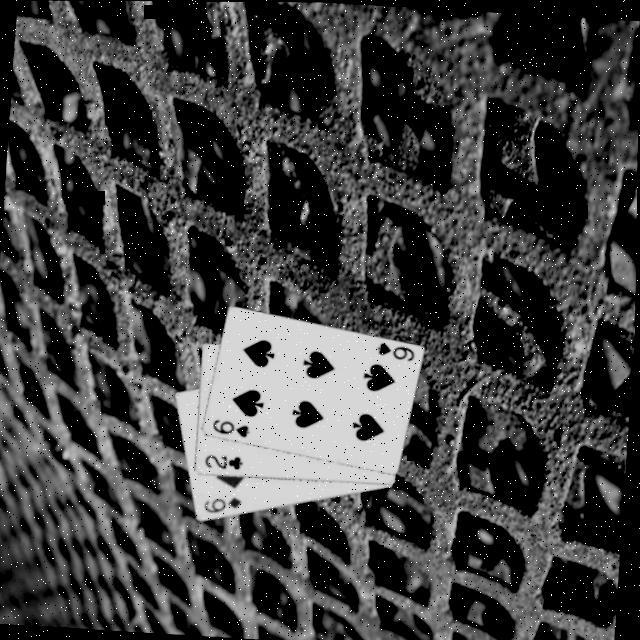2C: (201, 454, 244, 474)
6D: (200, 494, 243, 519)
6S: (373, 340, 416, 366), (208, 418, 252, 442)
